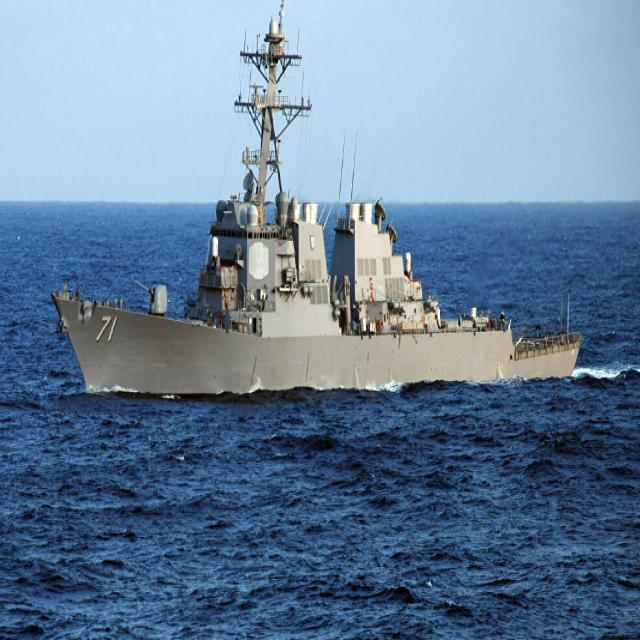navalvessels: (38, 13, 582, 380)
